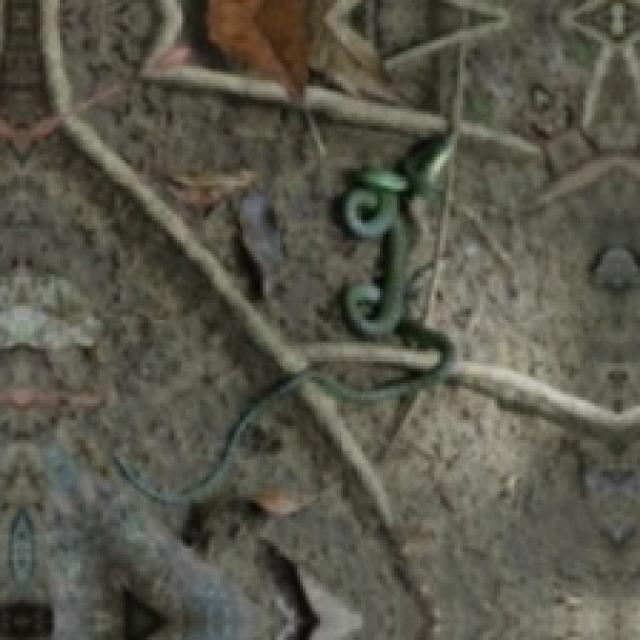paradise tree snake: (129, 160, 454, 529), (451, 360, 637, 440)
